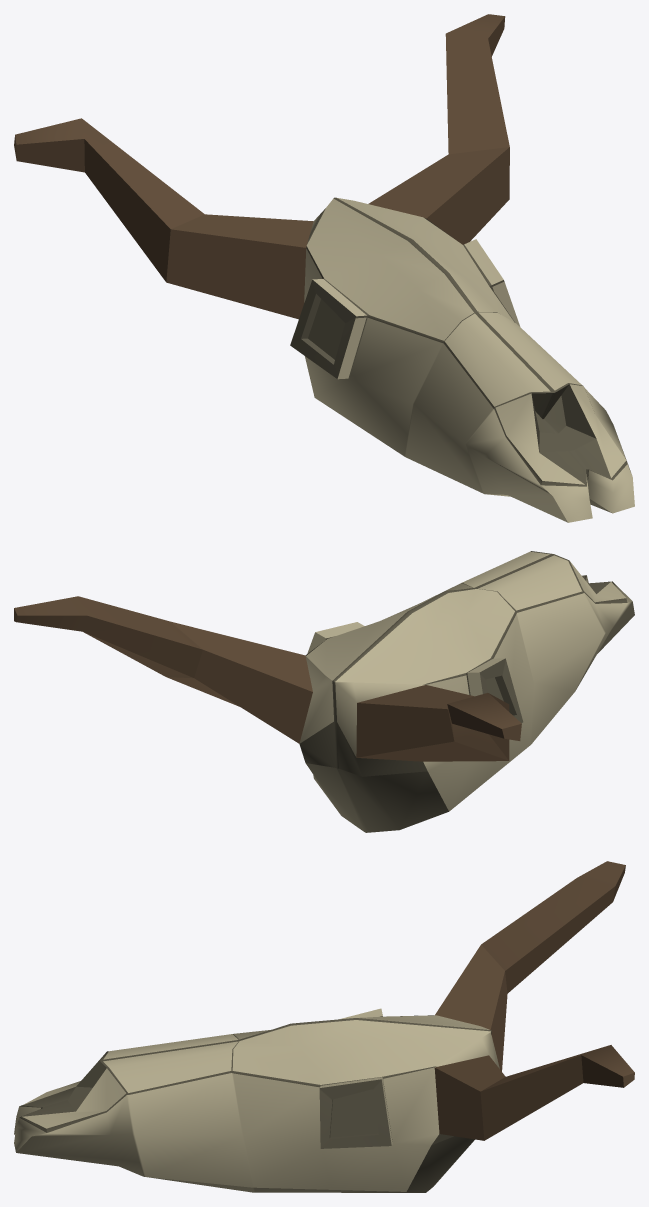
Rendered from Skull.fbx.
The picture shows the model from 3 angles, top to bottom: view 1: azimuth 30°, elevation 25°; view 2: azimuth 150°, elevation 25°; view 3: azimuth 270°, elevation 25°; orthographic projection. The views are drawn at different scales.
Parts seen in each view (by area): view 1: Skull1; view 2: Skull1; view 3: Skull1.
Part boxes in pixels (x1,y1,x2,y2): Skull1: [14, 14, 634, 522]; Skull1: [14, 551, 634, 832]; Skull1: [14, 861, 634, 1192].
Bounding box in the file's own units: 130 × 62.31 × 158.
